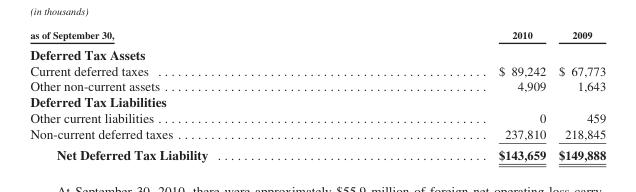table: (29, 28, 605, 161)
table column: (29, 28, 352, 161), (352, 28, 551, 161), (551, 28, 605, 161)
table column header: (29, 28, 605, 43)
table projected row header: (29, 43, 605, 62), (29, 93, 605, 109)
table row: (29, 43, 605, 62), (29, 125, 605, 143), (29, 143, 605, 161), (29, 77, 605, 93), (29, 93, 605, 109), (29, 109, 605, 125), (29, 28, 605, 43), (29, 62, 605, 77)
